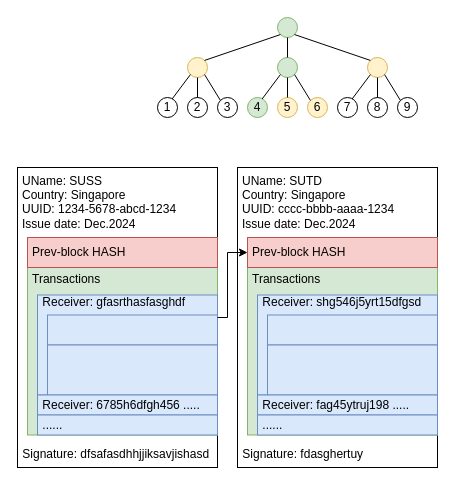
Image size: 455x485. Some labels were removed from this diagram. Each missing label, with the centre of its shape:
Blockchain Security: 3.5/4 Search engine: 3.5/4 ......: point 132,369
Machine learning: 3.5/4 Image processing: 3.5/4 ......: point 352,369
Master of marketing: 1 ........: point 132,329
Master of science: 1 ........: point 352,329
